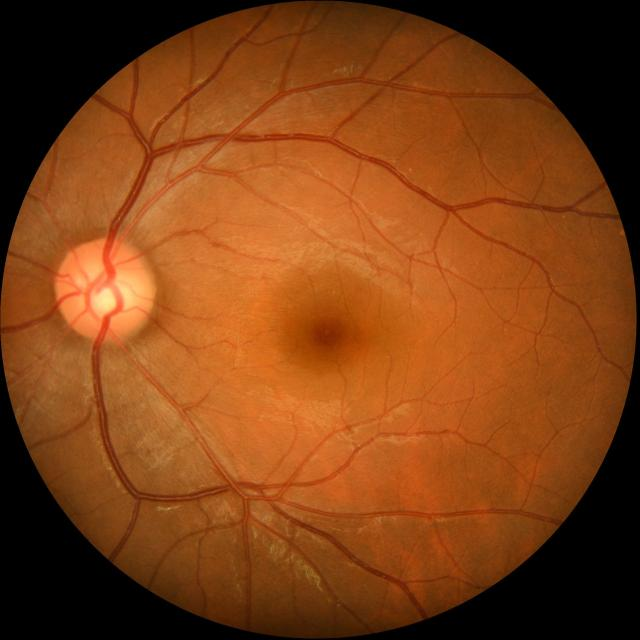OC: (80, 267, 132, 318)
OD: (54, 237, 155, 342)
